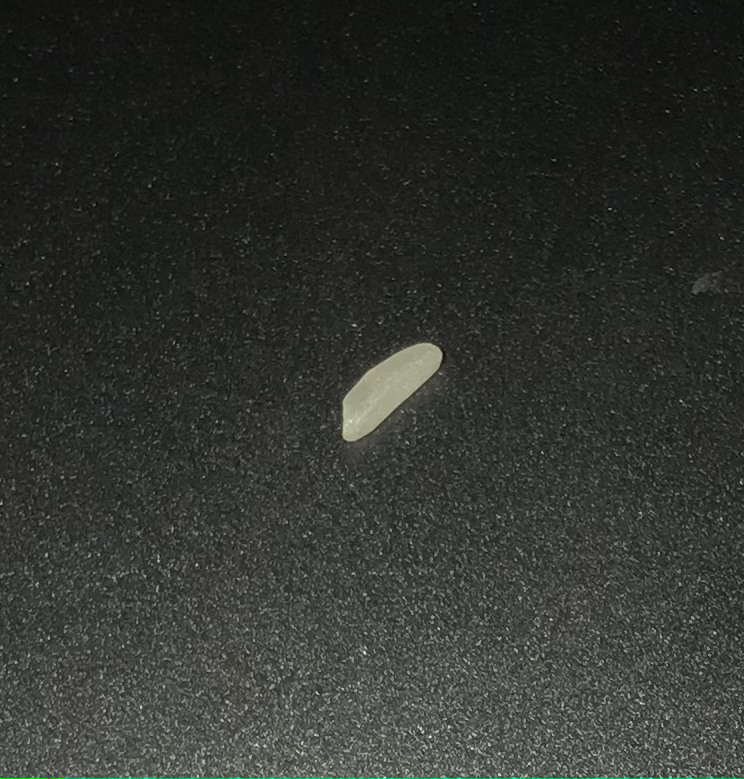Gao Tam Thom: (330, 329, 461, 460)
